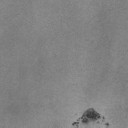iron sheet ash: (71, 108, 100, 126)
